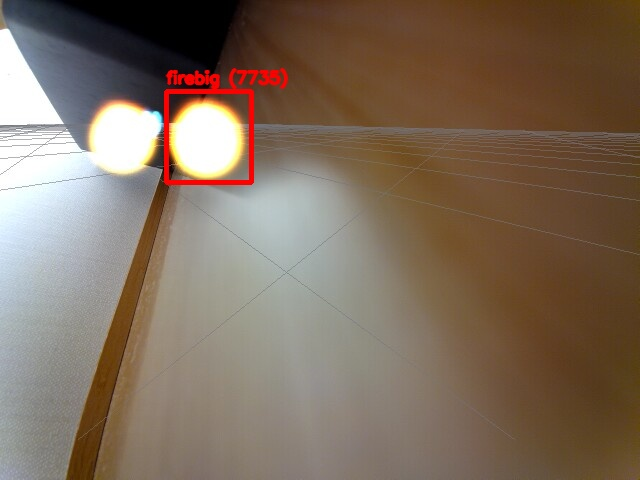firebig: (166, 91, 251, 182)
